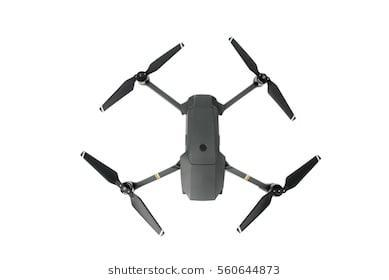drone: (70, 36, 328, 243)
